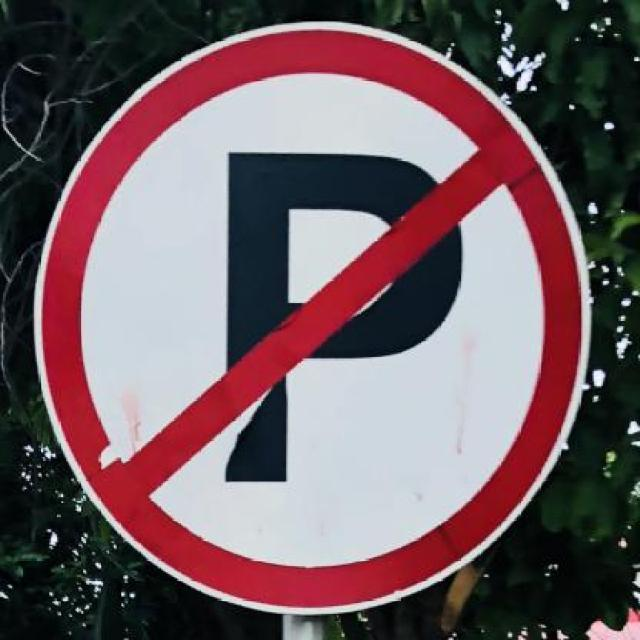no parking: (34, 25, 599, 618)
